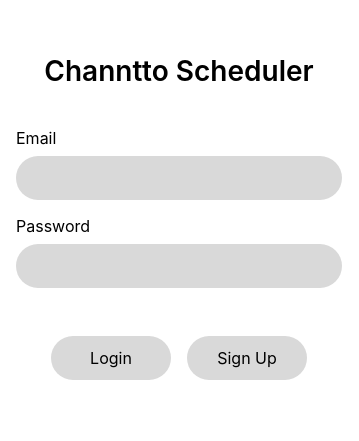
AuthScreen › hides confirm password when Login is pressed in signup mode
Click the button "Sign Up". click: (247, 358)
box: [187, 336, 307, 380]
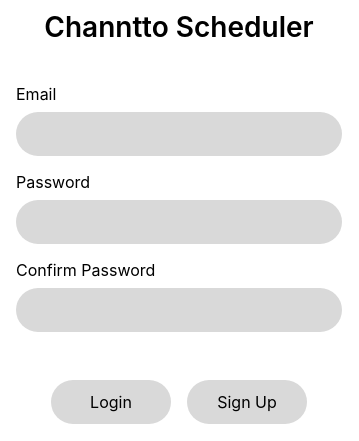
Check: the text "Confirm Password" is shown, box [16, 260, 155, 280]
Click the button "Login". click: (111, 402)
box: [51, 380, 171, 424]
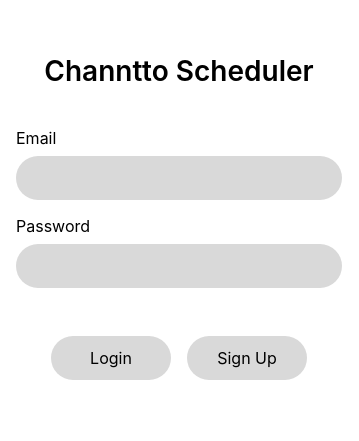
Check: the text "Confirm Password" is gone
